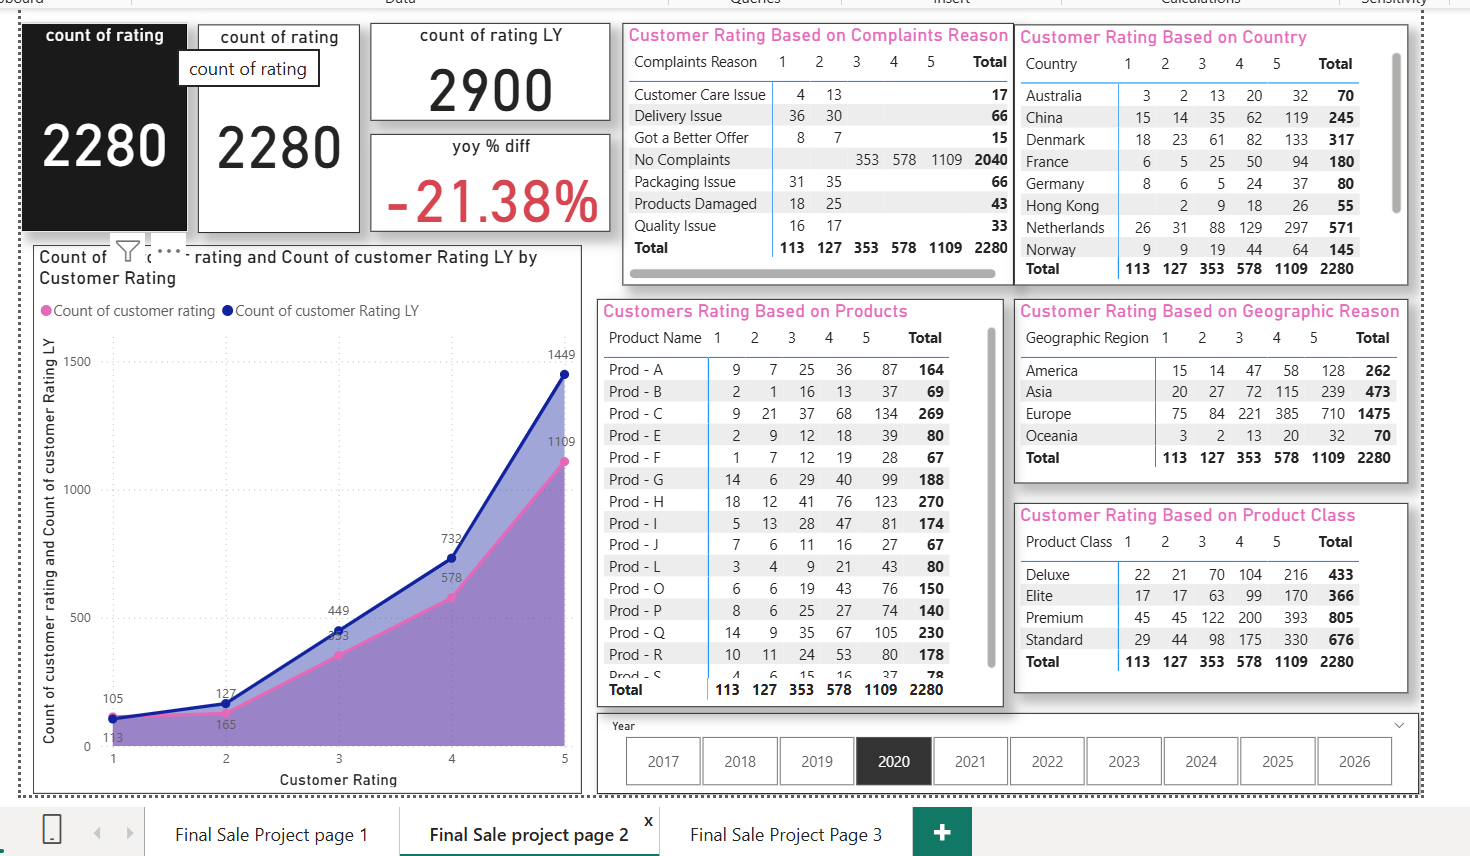

Layout of this report page (visuals, bound fields, positions):
{"tool":"powerbi","page":{"name":"Final Sale project page 2","canvas":[1280,720],"ordinal":1},"visuals":[{"type":"areaChart","fields":{"Y":["All Measure.Count of customer rating","All Measure.Count of customer Rating LY"],"Category":["Sales Data.Customer Rating"]},"box":[11,216.8,502.3,502.3],"z":0},{"type":"slicer","fields":{"Values":["Calendar Table.Year"]},"box":[527,645,752,74.1],"z":1000},{"type":"pivotTable","title":"Customer Rating Based on Complaints Reason","fields":{"Values":["All Measure.Count of customer rating"],"Rows":["Sales Data.Complaints Reason"],"Columns":["Sales Data.Customer Rating"]},"box":[550.3,13.7,358.2,240.2],"z":2000},{"type":"pivotTable","title":"Customer Rating Based on Country","fields":{"Rows":["Location Details.Country"],"Columns":["Sales Data.Customer Rating"],"Values":["All Measure.Count of customer rating"]},"box":[908.5,15.1,360.9,238.8],"z":3000},{"type":"pivotTable","title":"Customer Rating Based on Geographic Reason","fields":{"Values":["All Measure.Count of customer rating"],"Columns":["Sales Data.Customer Rating"],"Rows":["Location Details.Geographic Region"]},"box":[908.5,266.2,360.9,168.8],"z":4000},{"type":"pivotTable","title":"Customer Rating Based on Product Class","fields":{"Values":["All Measure.Count of customer rating"],"Columns":["Sales Data.Customer Rating"],"Rows":["Products Details.Product Class"]},"box":[908.5,452.9,360.9,174.3],"z":5000},{"type":"pivotTable","title":"Customers Rating Based on Products","fields":{"Values":["All Measure.Count of customer rating"],"Columns":["Sales Data.Customer Rating"],"Rows":["Products Details.Product Name"]},"box":[527,266.2,371.9,373.3],"z":6000},{"type":"card","title":"count of rating","fields":{"Values":["All Measure.Count of customer rating"]},"box":[0,13.7,152.3,190.8],"z":7000},{"type":"card","title":"count of rating","fields":{"Values":["All Measure.Count of customer rating"]},"box":[161.9,15.1,148.2,190.8],"z":8000},{"type":"card","title":"count of rating LY","fields":{"Values":["All Measure.Count of customer Rating LY"]},"box":[319.8,13.7,219.6,89.2],"z":9000},{"type":"card","title":"yoy % diff","fields":{"Values":["All Measure.yoy diff"]},"box":[319.8,115.3,219.6,89.2],"z":10000}]}

Visuals, with their boxes in screenshot pixels (x1, y1, x2, y2):
areaChart - All Measure.Count of customer rating x All Measure.Count of customer Rating LY: [x1=27, y1=244, x2=576, y2=793]
slicer - Calendar Table.Year: [x1=591, y1=712, x2=1413, y2=793]
"Customer Rating Based on Complaints Reason" pivotTable: [x1=616, y1=23, x2=1008, y2=285]
"Customer Rating Based on Country" pivotTable: [x1=1008, y1=24, x2=1402, y2=285]
"Customer Rating Based on Geographic Reason" pivotTable: [x1=1008, y1=298, x2=1402, y2=483]
"Customer Rating Based on Product Class" pivotTable: [x1=1008, y1=502, x2=1402, y2=693]
"Customers Rating Based on Products" pivotTable: [x1=591, y1=298, x2=997, y2=706]
"count of rating" card: [x1=15, y1=23, x2=182, y2=231]
"count of rating" card: [x1=192, y1=24, x2=354, y2=233]
"count of rating LY" card: [x1=365, y1=23, x2=605, y2=120]
"yoy % diff" card: [x1=365, y1=134, x2=605, y2=231]
